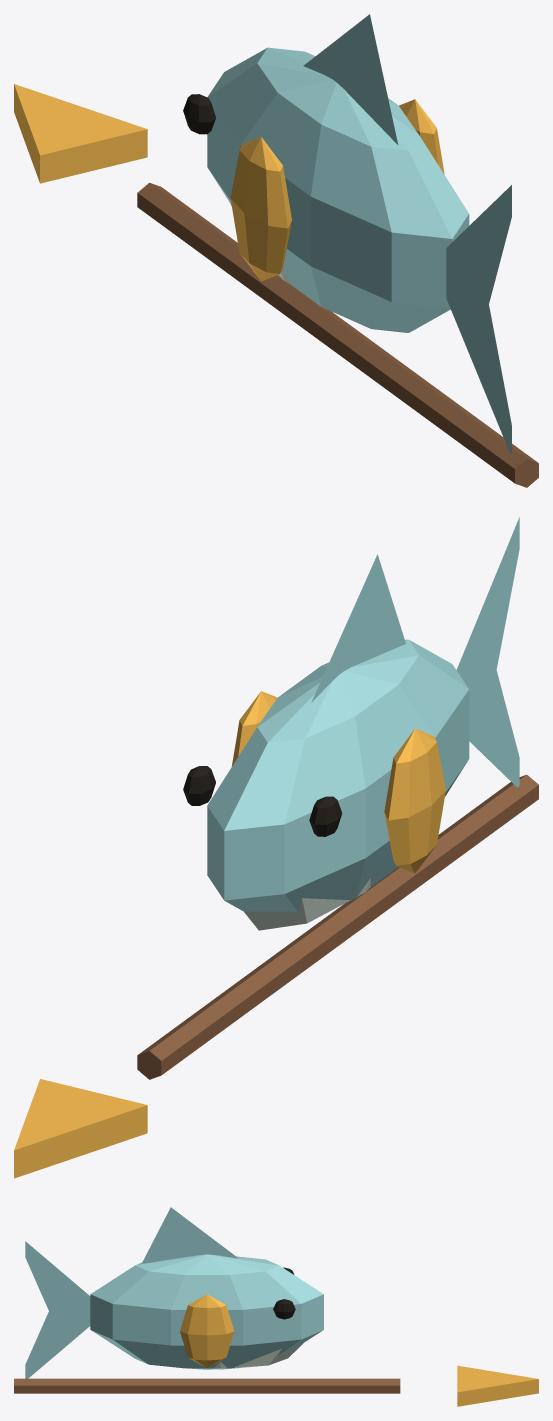
File: hunter_fish_arrow.glb
3 renders of one model, top to bottom at view 1: azimuth 30°, elevation 25°; view 2: azimuth 150°, elevation 25°; view 3: azimuth 270°, elevation 25°, orthographic. The views are drawn at different scales.
Visible parts, largest first — view 1: FishBody.002, FishArrowShaft.002, FishTail.002, FishArrowPoint.002, ArrowClamp.004, FishDorsal.002, ArrowClamp.005, FishEye.004; view 2: FishBody.002, FishArrowShaft.002, FishArrowPoint.002, FishTail.002, ArrowClamp.004, FishDorsal.002, FishBelly.002, ArrowClamp.005, FishEye.004, FishEye.005; view 3: FishBody.002, FishArrowShaft.002, FishTail.002, ArrowClamp.005, FishDorsal.002, FishArrowPoint.002, FishBelly.002, FishEye.005.
Boxes of the visible parts, x1,y1,x2,y2 form: FishBody.002: [207, 47, 469, 332]; FishArrowShaft.002: [137, 182, 538, 487]; FishTail.002: [446, 185, 511, 453]; FishArrowPoint.002: [14, 84, 147, 183]; ArrowClamp.004: [230, 137, 291, 281]; FishDorsal.002: [303, 14, 398, 144]; ArrowClamp.005: [399, 99, 444, 174]; FishEye.004: [183, 94, 215, 134]; FishBody.002: [207, 639, 469, 911]; FishArrowShaft.002: [137, 774, 538, 1079]; FishArrowPoint.002: [14, 1079, 147, 1178]; FishTail.002: [456, 517, 519, 787]; ArrowClamp.004: [384, 728, 445, 873]; FishDorsal.002: [311, 554, 405, 702]; FishBelly.002: [244, 878, 370, 930]; ArrowClamp.005: [231, 691, 277, 766]; FishEye.004: [309, 796, 342, 836]; FishEye.005: [183, 766, 215, 805]; FishBody.002: [90, 1254, 323, 1369]; FishArrowShaft.002: [14, 1378, 400, 1393]; FishTail.002: [25, 1241, 90, 1378]; ArrowClamp.005: [180, 1294, 234, 1368]; FishDorsal.002: [142, 1207, 238, 1263]; FishArrowPoint.002: [457, 1365, 538, 1406]; FishBelly.002: [214, 1343, 303, 1369]; FishEye.005: [273, 1299, 295, 1319].
Bounding box in the file's own units: 0.244 × 0.4505 × 1.16.
